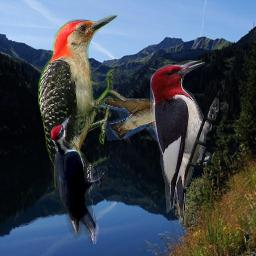Swallow: (99, 98, 182, 146)
Woodpecker: (38, 15, 130, 188), (150, 60, 219, 225), (50, 117, 108, 244)
